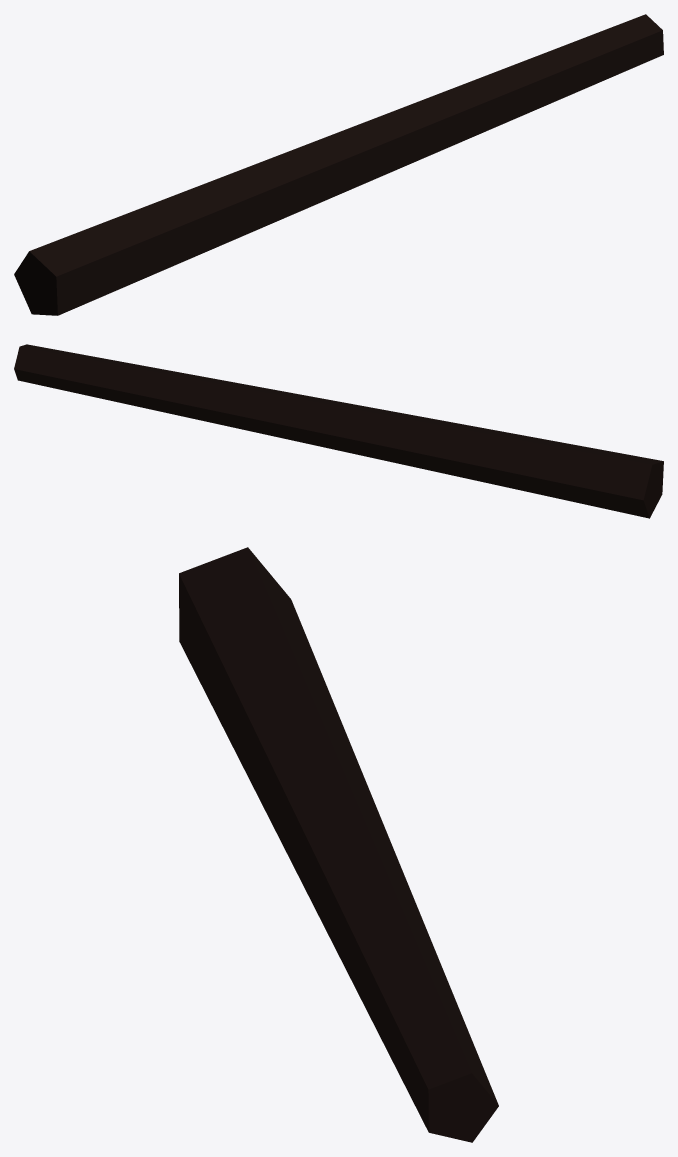
File: Wood_Stick_01.fbx
The picture shows the model from 3 angles, top to bottom: view 1: azimuth 30°, elevation 25°; view 2: azimuth 150°, elevation 25°; view 3: azimuth 270°, elevation 25°; orthographic projection. The views are drawn at different scales.
Visible parts, largest first — view 1: Wood_Stick_01_Mesh; view 2: Wood_Stick_01_Mesh; view 3: Wood_Stick_01_Mesh.
Part boxes in pixels (box(x1,y1,x2,y2)): Wood_Stick_01_Mesh: box(14, 14, 663, 315); Wood_Stick_01_Mesh: box(14, 344, 663, 518); Wood_Stick_01_Mesh: box(179, 547, 498, 1142).
Size of the model in its own units: 0.7496 by 0.0892 by 0.1782.
1 material, 1 textured.
